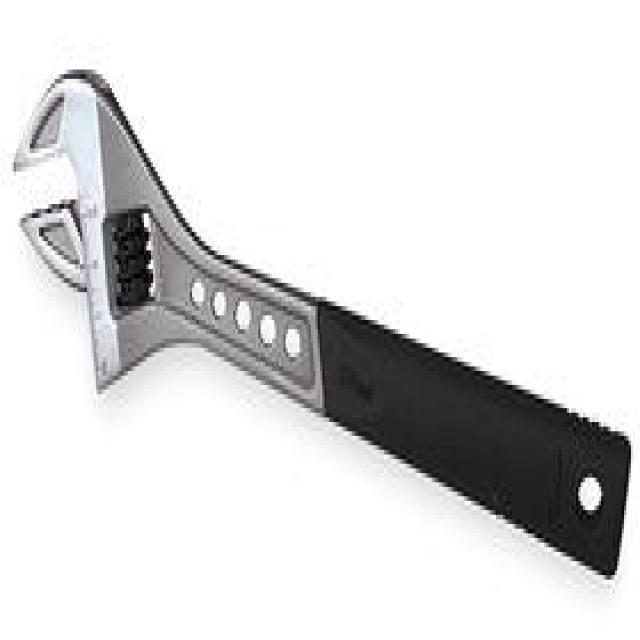wrench: (6, 52, 629, 596)
